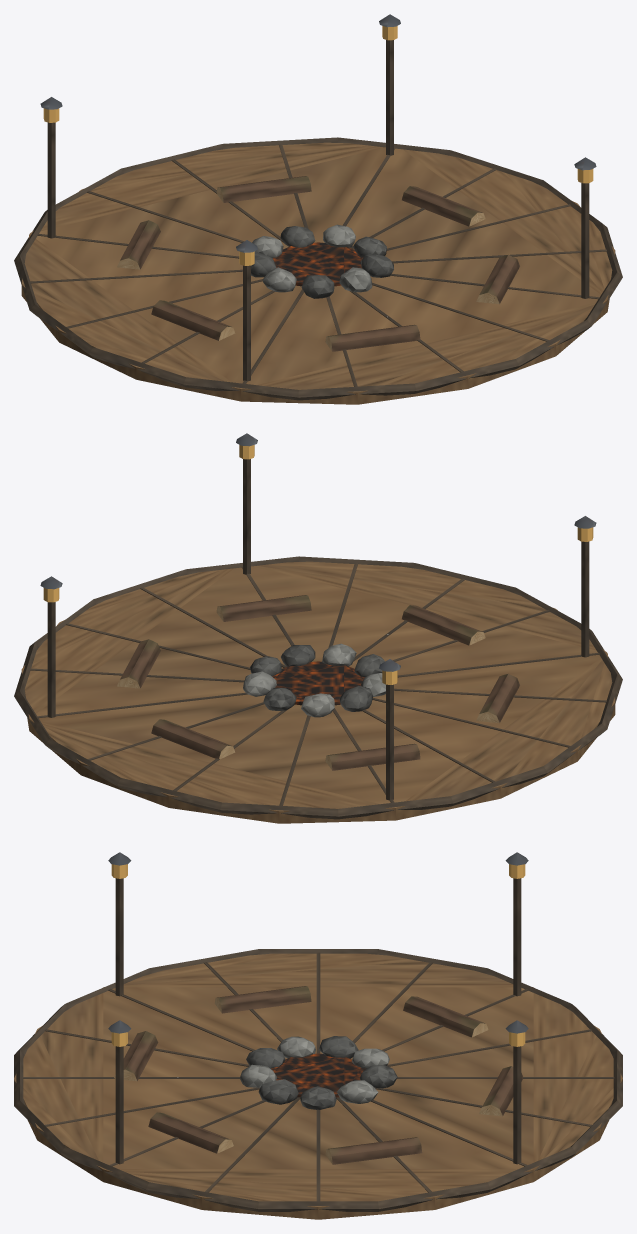
Rendered from SM_Lobby_GatheringArea.fbx.
3 views of the same model, one above another, from view 1: azimuth 30°, elevation 25°; view 2: azimuth 150°, elevation 25°; view 3: azimuth 270°, elevation 25° (orthographic).
Visible parts, largest first — view 1: SM_Lobby_GatheringArea; view 2: SM_Lobby_GatheringArea; view 3: SM_Lobby_GatheringArea.
Part boxes in pixels (x1,y1,x2,y2): SM_Lobby_GatheringArea: (14,14,622,404); SM_Lobby_GatheringArea: (14,433,622,823); SM_Lobby_GatheringArea: (14,852,622,1219).
Bounding box in the file's own units: 26 × 7.3 × 26.
1 material, 1 textured.
